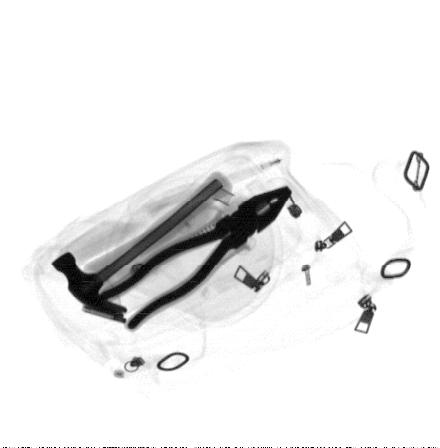Hammer: (51, 170, 233, 315)
Pliers: (91, 185, 294, 331)
